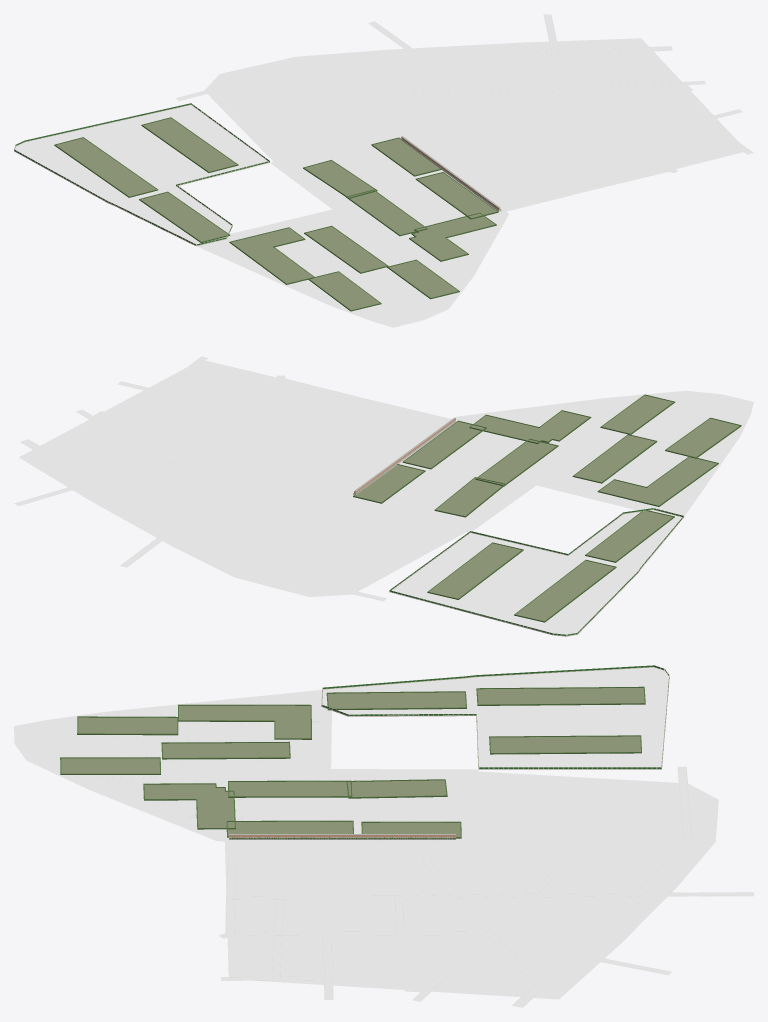
Rendered from ground_fill.glb.
The picture shows the model from 3 angles, top to bottom: view 1: azimuth 30°, elevation 25°; view 2: azimuth 150°, elevation 25°; view 3: azimuth 270°, elevation 25°; orthographic projection. The views are drawn at different scales.
Visible parts, largest first — view 1: ground_fill; view 2: ground_fill; view 3: ground_fill.
Part boxes in pixels (left/top/right/bottom): ground_fill: left=14, top=14, right=753, bottom=327; ground_fill: left=14, top=356, right=753, bottom=636; ground_fill: left=14, top=665, right=753, bottom=1007.
Size of the model in its own units: 519 by 3.1 by 477.
